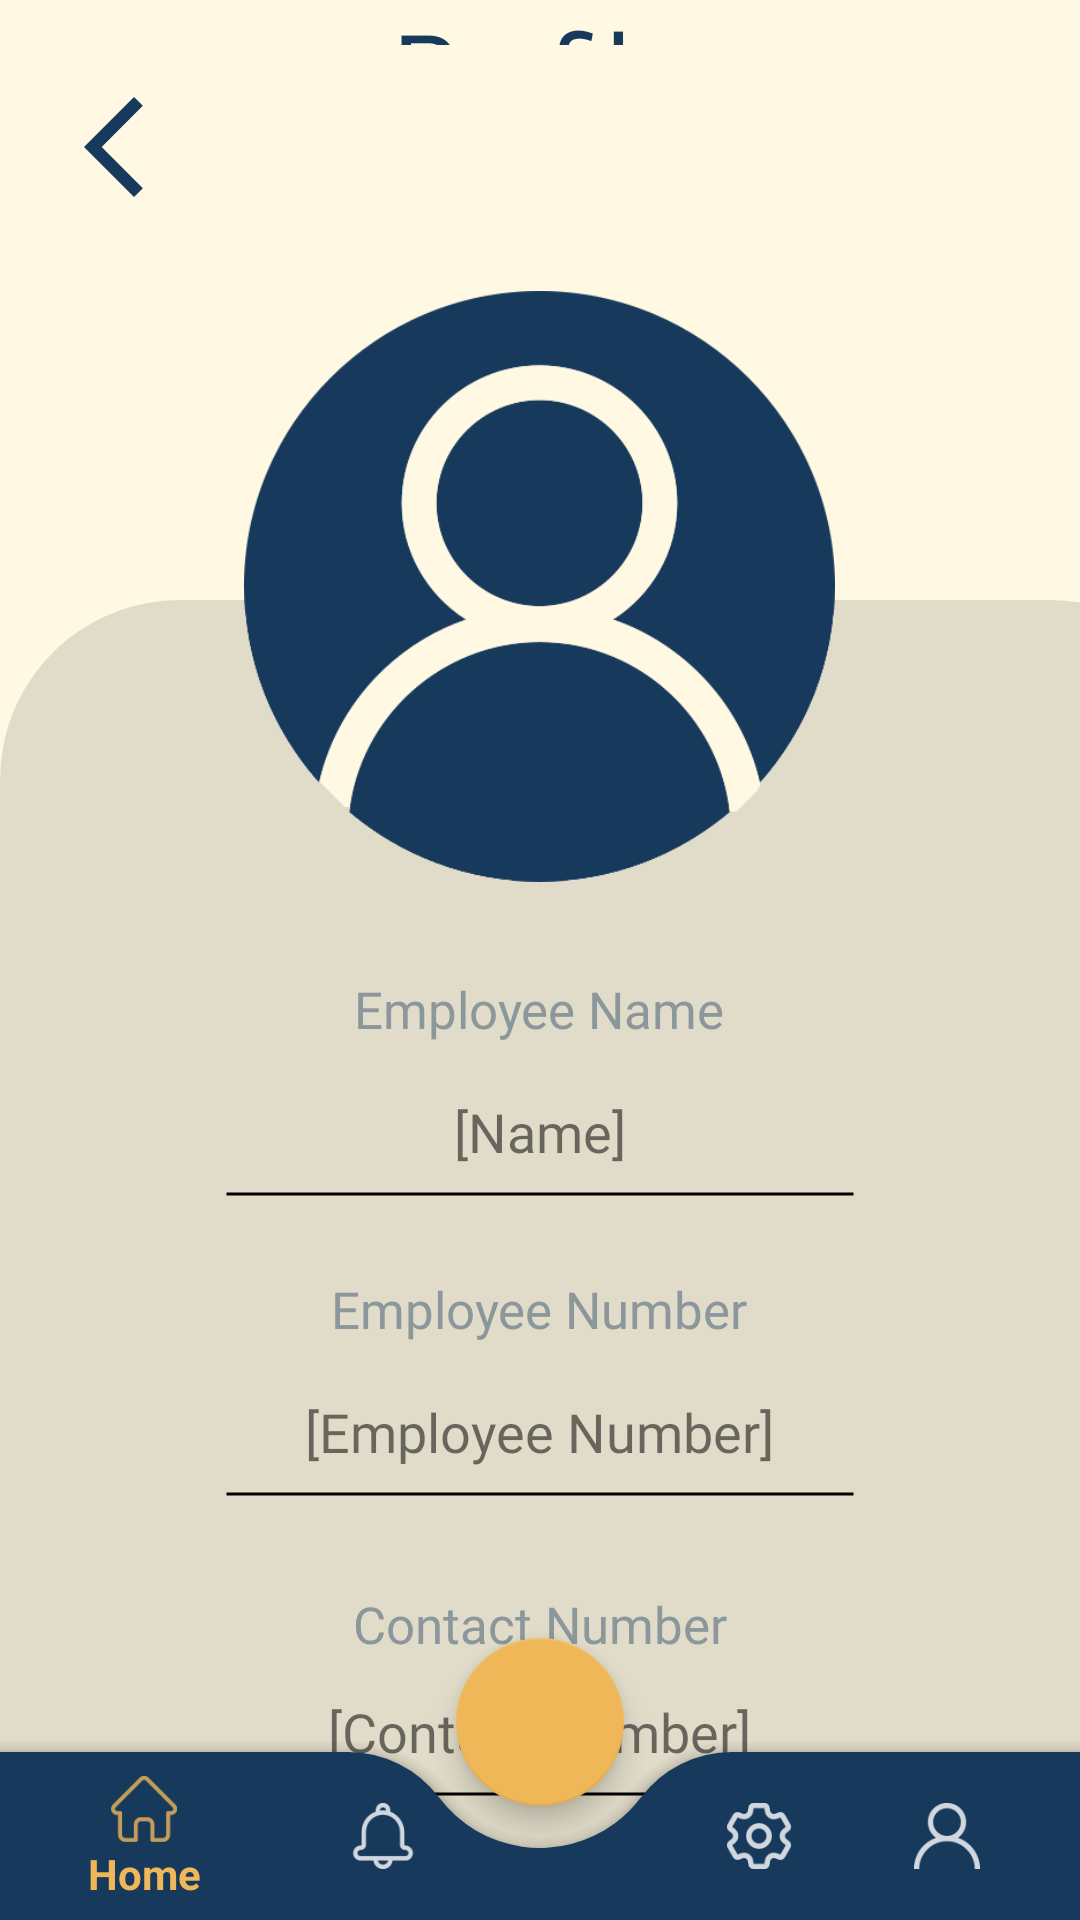

Point at icon controls on the screen. Image size 1080x1920, points as [x,y].
arrow back: [113,147]
